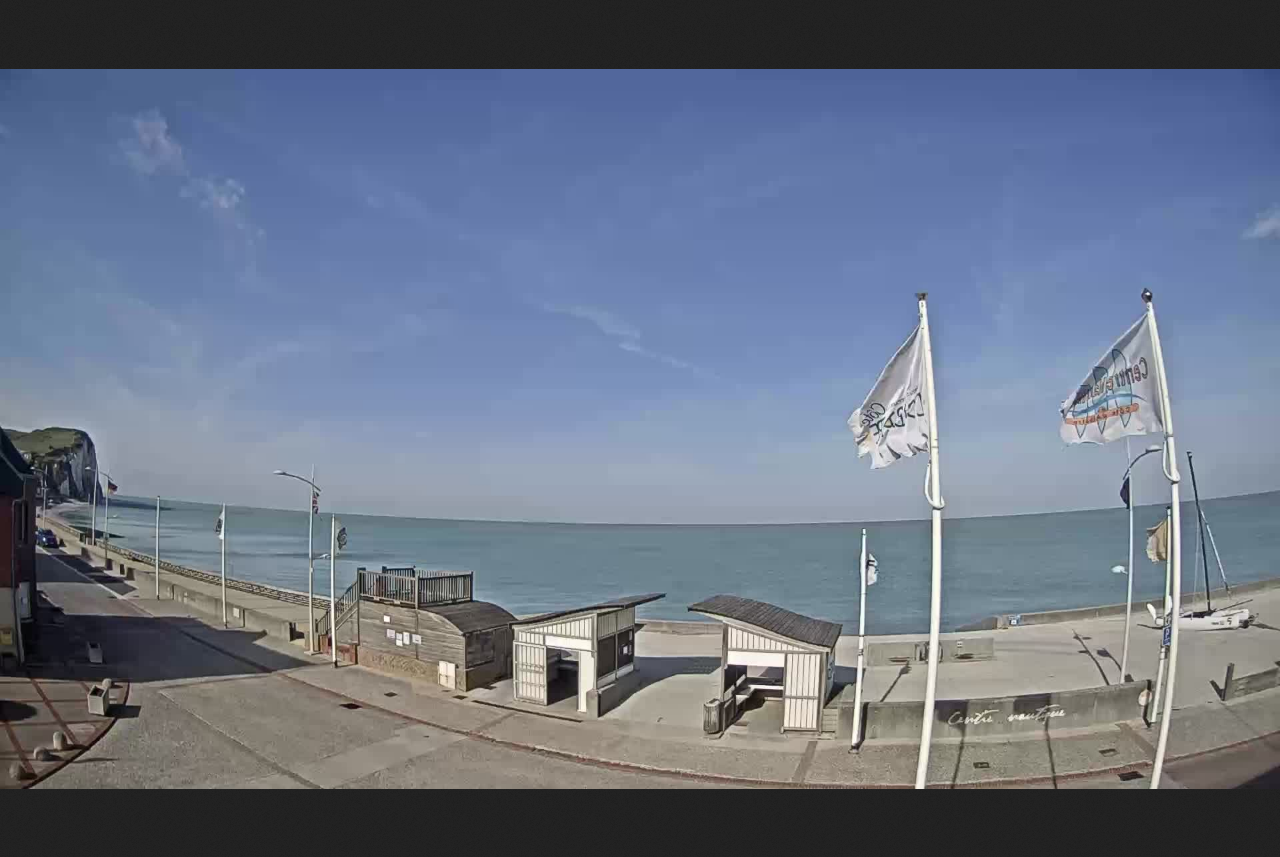yes: (1055, 304, 1175, 445), (844, 312, 943, 469), (1141, 512, 1173, 572), (329, 519, 352, 560), (214, 508, 229, 541)
